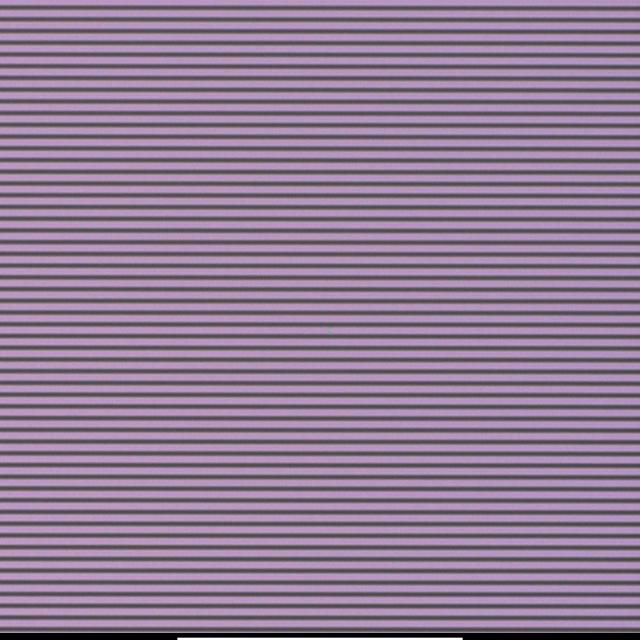nonvisual: (326, 325, 336, 338)
